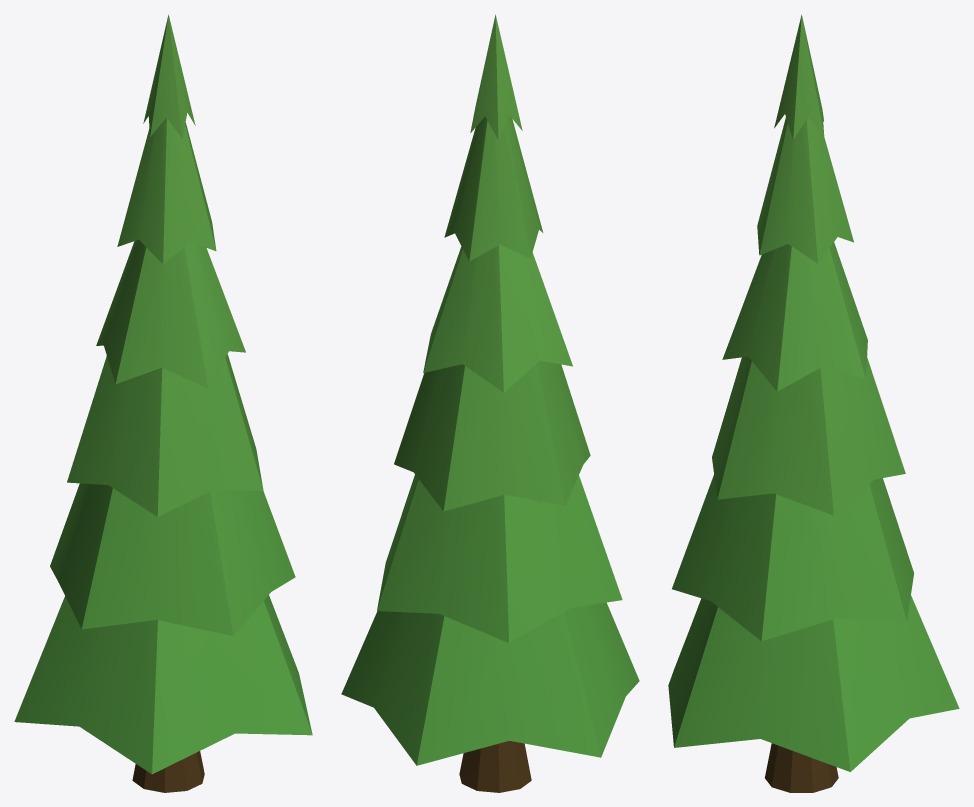
Rendered from tree_3.fbx.
3 views of the same model, side by side, from view 1: azimuth 30°, elevation 25°; view 2: azimuth 150°, elevation 25°; view 3: azimuth 270°, elevation 25° (orthographic).
Parts seen in each view (by area): view 1: tree; view 2: tree; view 3: tree.
Boxes of the visible parts, box(x1,y1,x2,y2) form: tree: box(14, 14, 312, 792); tree: box(341, 14, 639, 792); tree: box(668, 14, 959, 792).
Bounding box in the file's own units: 5.34 × 15 × 5.18.
